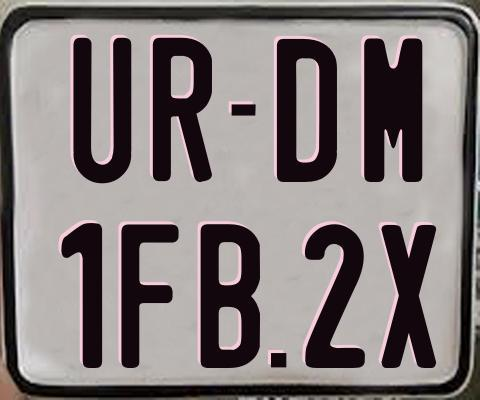1: (61, 222, 104, 373)
2: (304, 224, 367, 372)
B: (200, 223, 259, 371)
D: (276, 36, 340, 184)
F: (120, 221, 181, 367)
M: (362, 37, 425, 181)
R: (152, 37, 213, 185)
U: (73, 37, 132, 188)
X: (378, 224, 435, 367)
